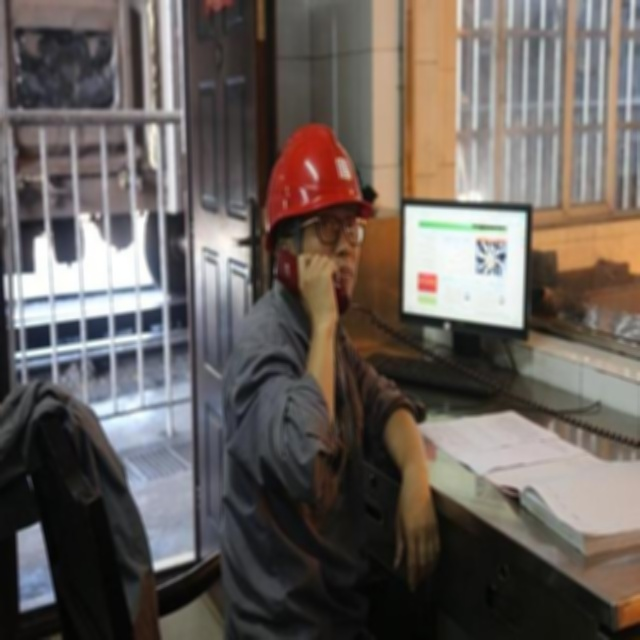Sin_Casco_Mascarrilla: (264, 124, 371, 312)
Sin_Chaleco: (222, 312, 362, 624)
